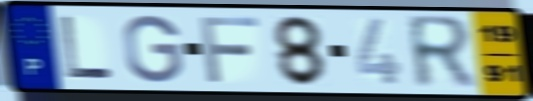4: (354, 16, 405, 89)
8: (271, 14, 330, 89)
F: (196, 15, 262, 85)
G: (121, 13, 186, 85)
L: (57, 14, 116, 82)
R: (404, 13, 480, 92)
